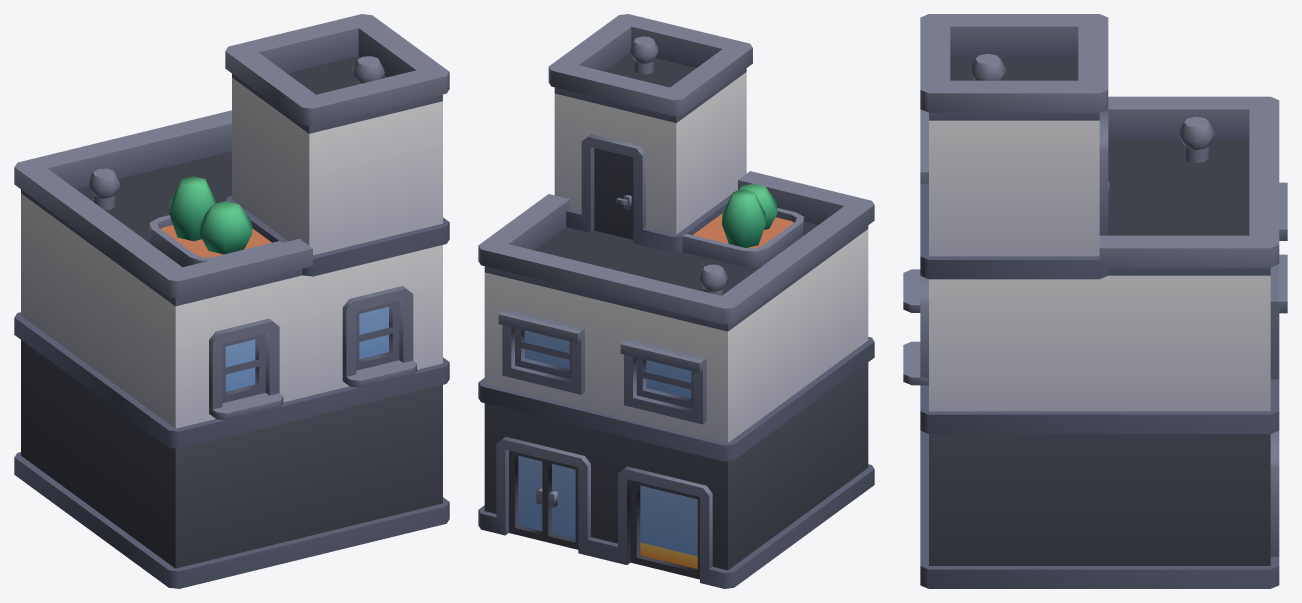
Rendered from city_3.fbx.
The picture shows the model from 3 angles, left to right: view 1: azimuth 30°, elevation 25°; view 2: azimuth 150°, elevation 25°; view 3: azimuth 270°, elevation 25°; orthographic projection. The views are drawn at different scales.
Parts seen in each view (by area): view 1: city_3; view 2: city_3; view 3: city_3.
Part boxes in pixels (bbox=[...]): city_3: bbox=[14, 14, 449, 588]; city_3: bbox=[478, 14, 874, 588]; city_3: bbox=[903, 14, 1287, 588].
Bounding box in the file's own units: 0.84 × 1.29 × 0.9.
1 material, 1 textured.
